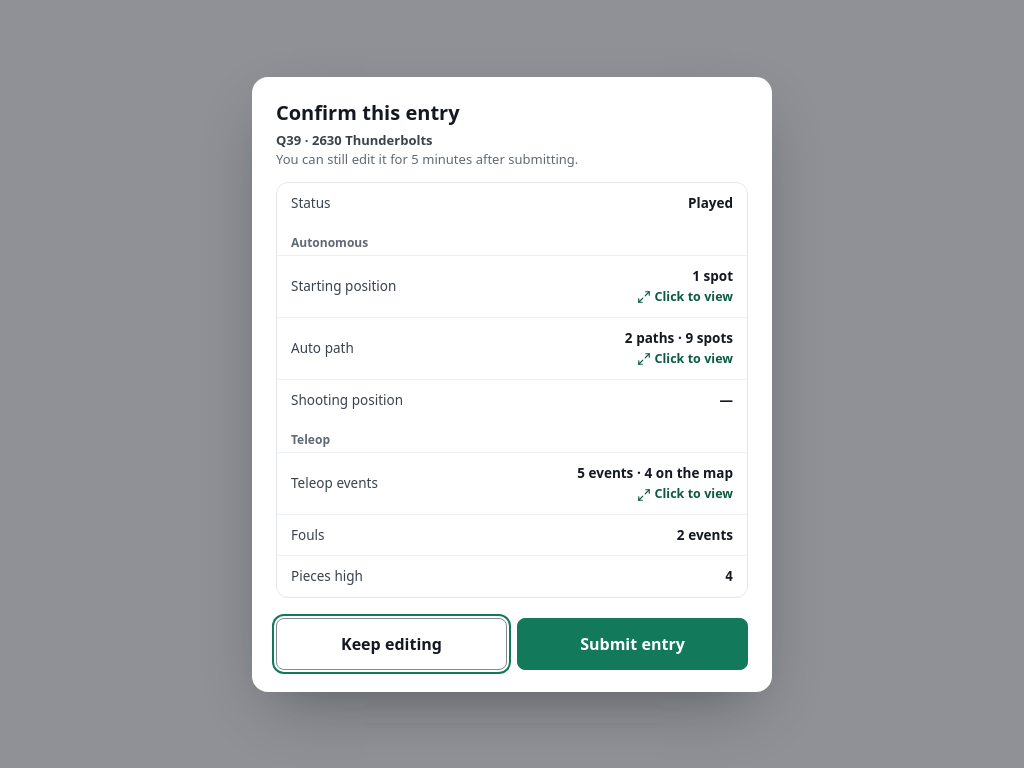
Test: ConfirmEntry: the map, view only (UF.24) › a cycle path shows its routes and the count, with nothing to select
Click the button with aria-label "Auto path: " at (322, 348), box [277,318,747,379]
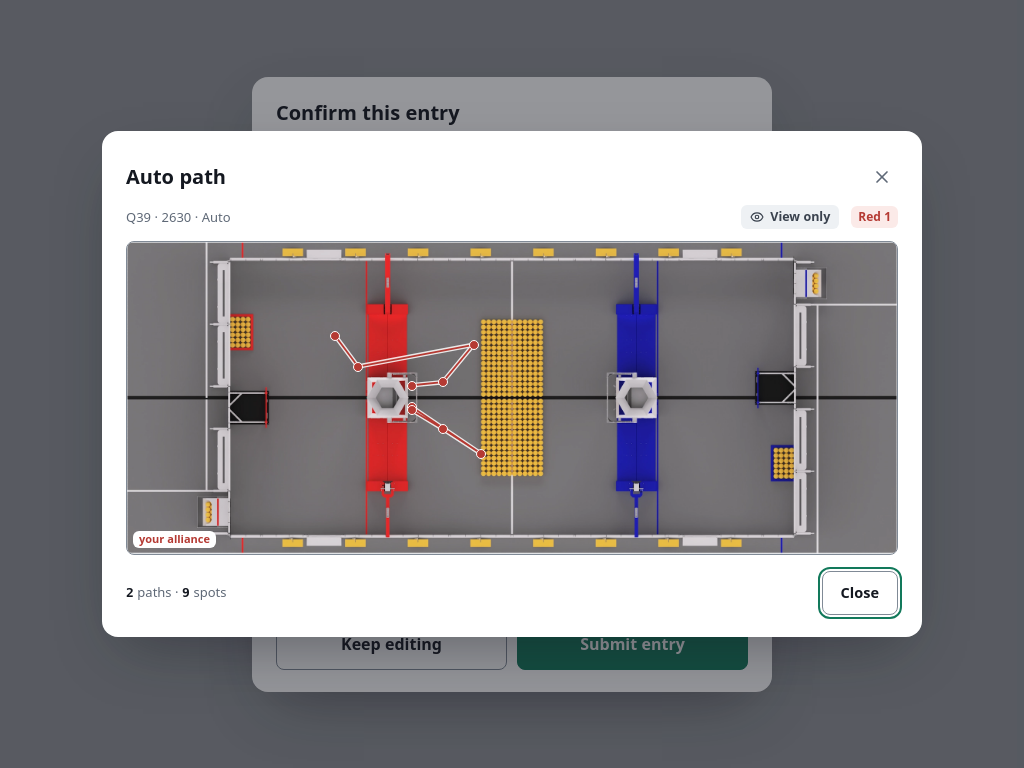
Expected: the element with test id "map-status" reads "2 paths · 9 spots", [126,583,226,602]
